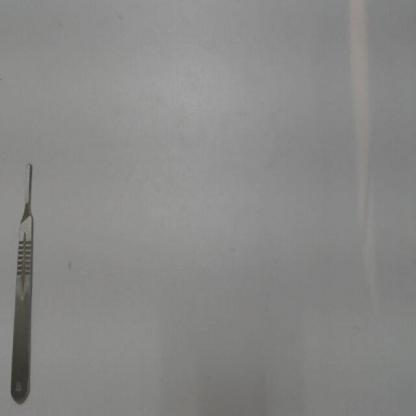No.4 BP Handle: (6, 150, 38, 413)
